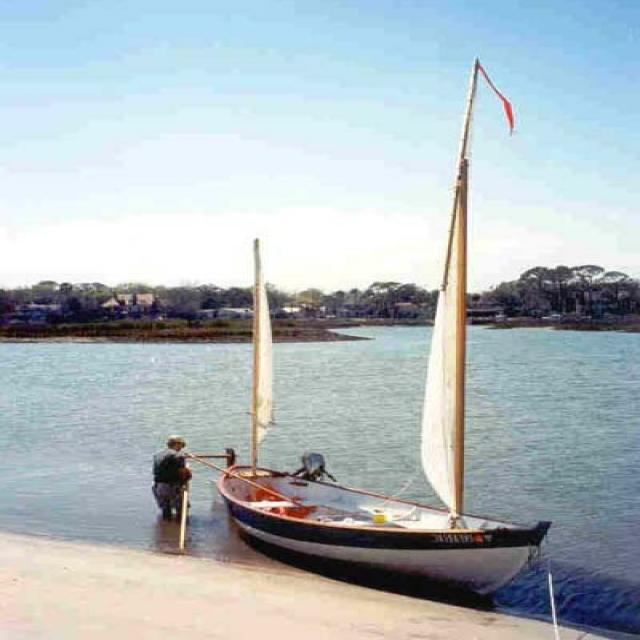Ship: (176, 71, 557, 602)
